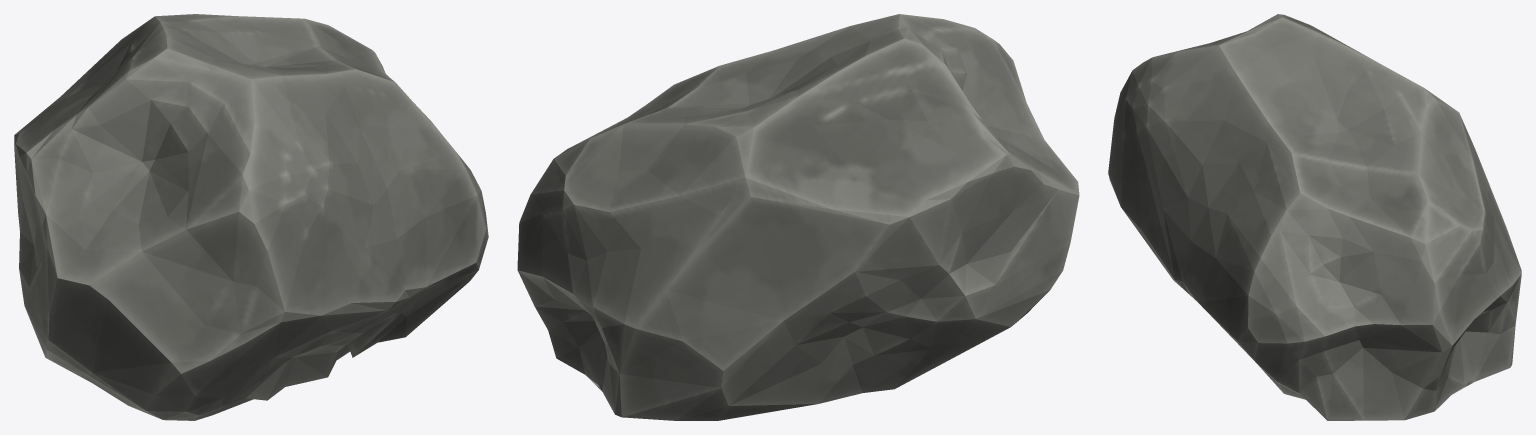
File: Metal_Slide.fbx
3 renders of one model, left to right at view 1: azimuth 30°, elevation 25°; view 2: azimuth 150°, elevation 25°; view 3: azimuth 270°, elevation 25°, orthographic. The views are drawn at different scales.
Parts seen in each view (by area): view 1: Pequeña_Piedra_Pablo; view 2: Pequeña_Piedra_Pablo; view 3: Pequeña_Piedra_Pablo.
Part boxes in pixels (x1,y1,x2,y2): Pequeña_Piedra_Pablo: (14, 14, 488, 420); Pequeña_Piedra_Pablo: (517, 14, 1079, 420); Pequeña_Piedra_Pablo: (1108, 14, 1521, 420).
Bounding box in the file's own units: 303 × 211 × 281.
